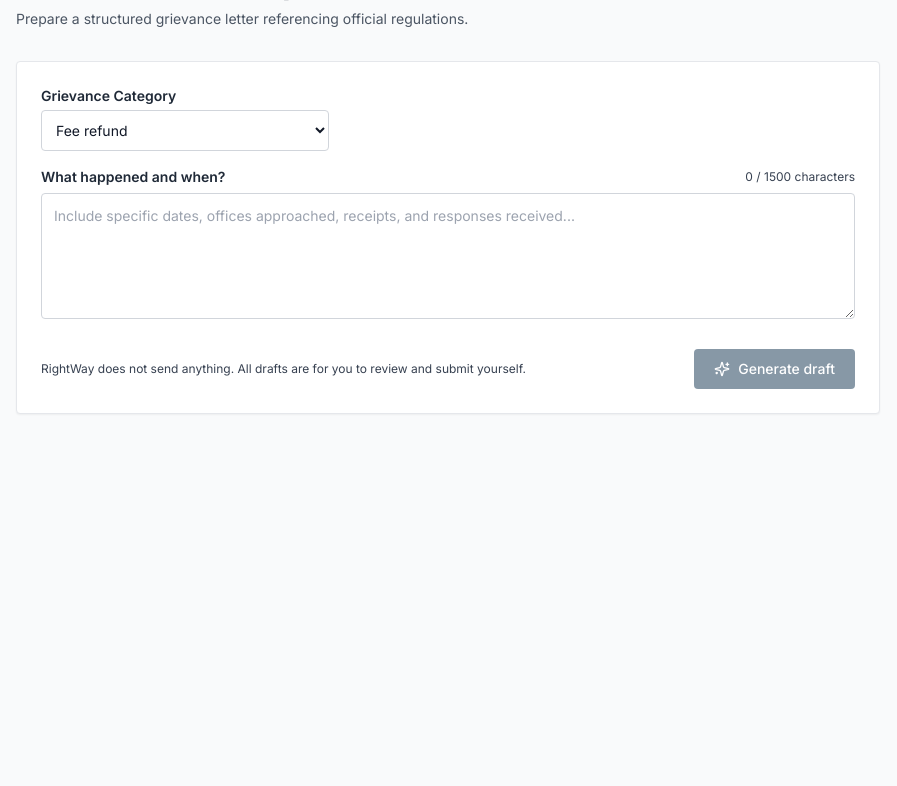
Test: Step 3: Draft Page › renders input with 1500 char counter and generates editable draft
The width and height of the screenshot is (897, 786).
Later steps or results of the test are not shown.
Replace the text in the text box labelled "What happened and when?" with "Withdrew admission on 10 Aug." at (448,256), box [41,193,855,319]
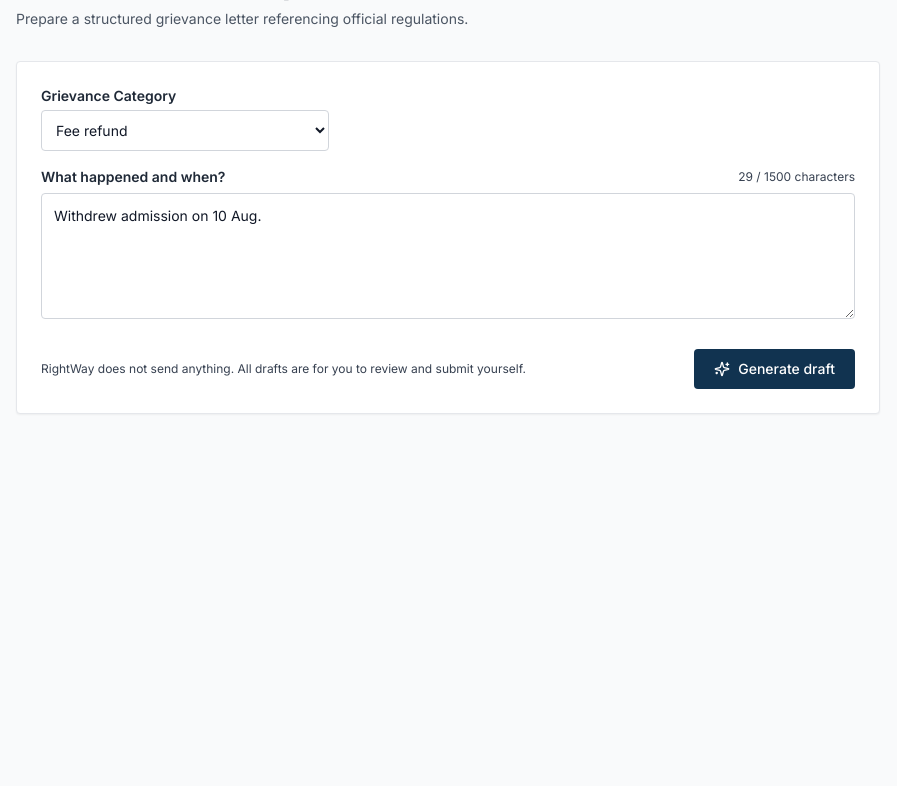
Result: the text "29 / 1500 characters" is shown at [738,169,855,185]
Click the button "Generate draft" at (775,369), box [694,349,855,389]
(page scrolled)
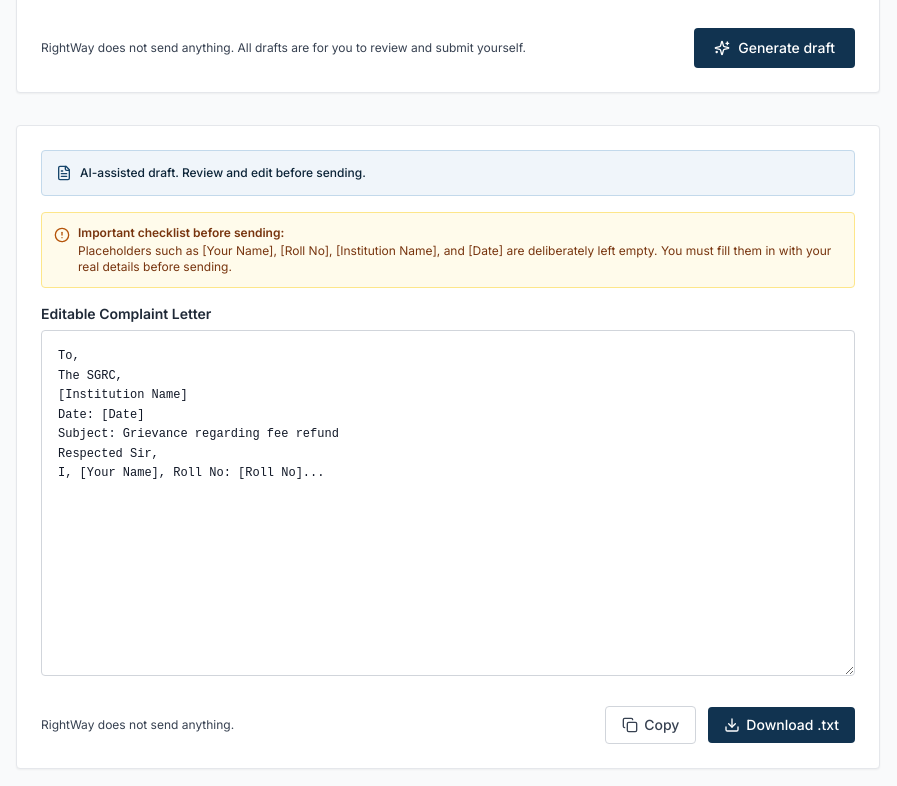
Result: the text "AI-assisted draft. Review and edit before sending." is shown at [80,165,366,181]
